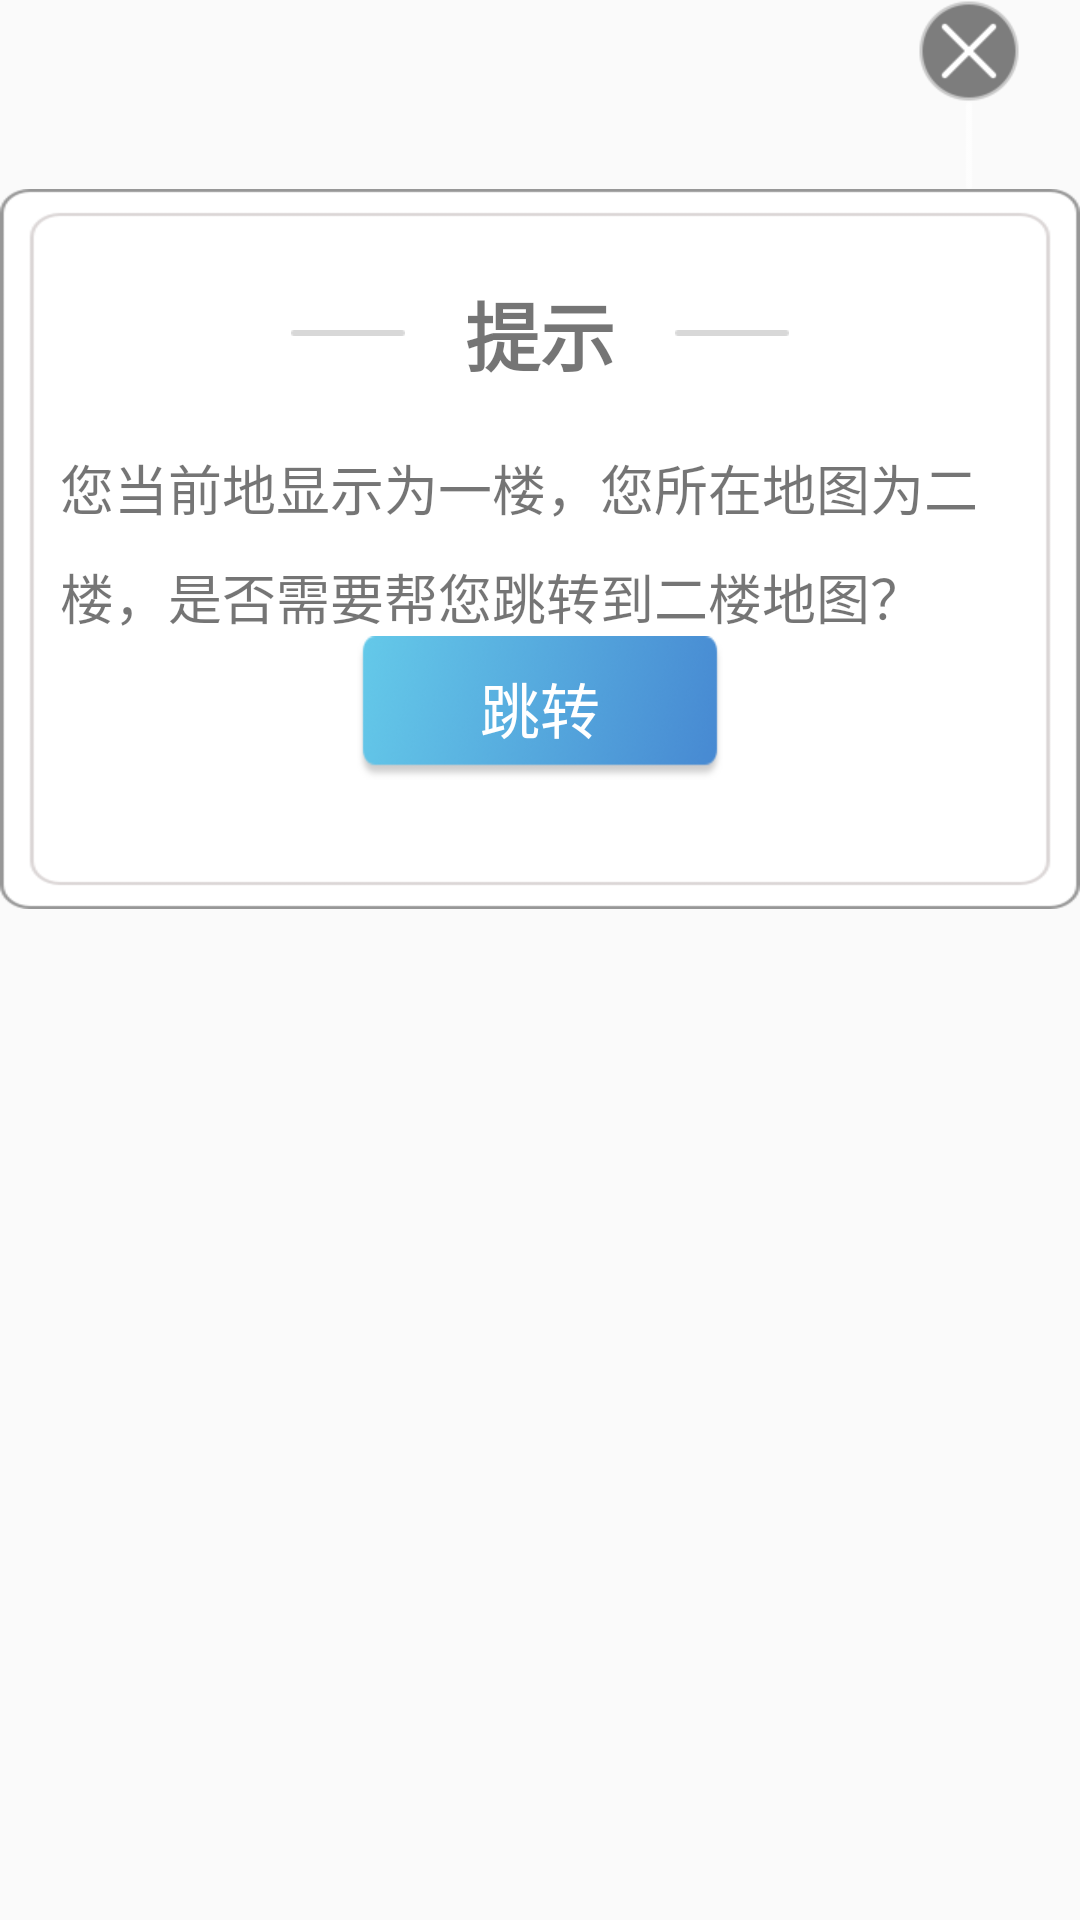

Icon bounding boxes for this 1080×1920 phone screenshot, format (x1, y1, x2, y2):
close dilog: (919, 1, 1019, 101)
